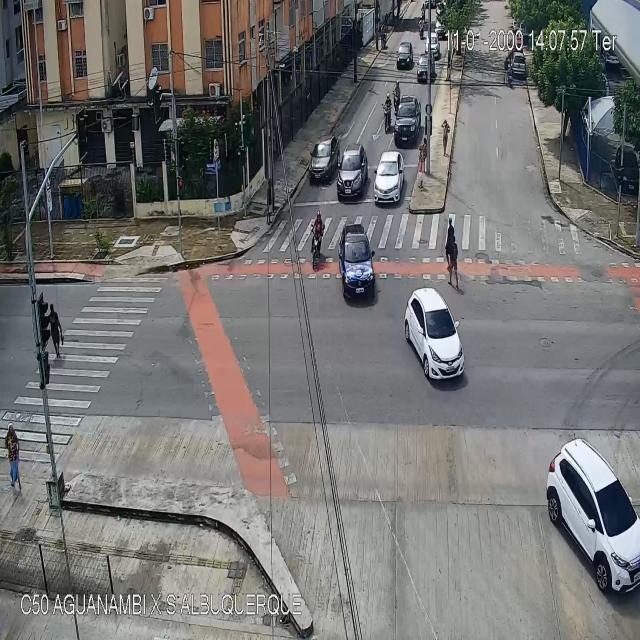Car: (546, 438, 640, 592), (403, 289, 466, 384), (339, 227, 376, 301), (373, 149, 405, 211), (337, 146, 368, 198), (307, 138, 338, 180), (394, 96, 420, 146), (417, 53, 434, 83), (424, 32, 441, 59), (396, 43, 413, 68), (512, 54, 527, 78), (436, 14, 448, 38)
Motorcycle: (311, 209, 325, 269), (392, 82, 401, 120), (383, 90, 391, 132), (418, 15, 424, 40), (421, 4, 425, 20)
